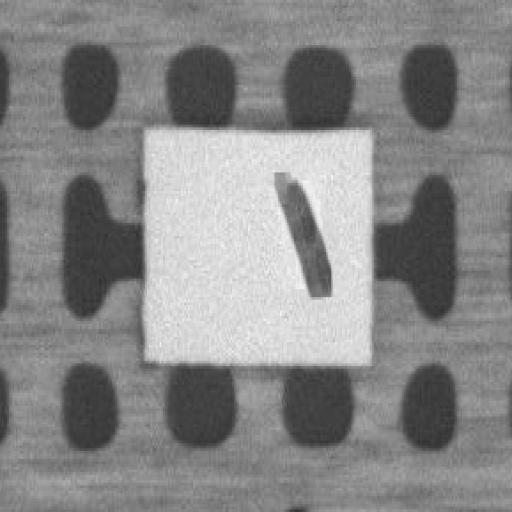DIE_INK: (270, 164, 330, 292)
